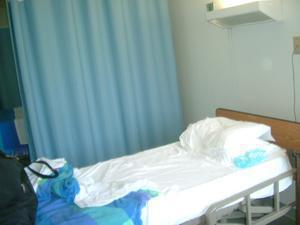Cama: (22, 115, 296, 221)
Otro Obstaculo: (10, 5, 182, 142)
